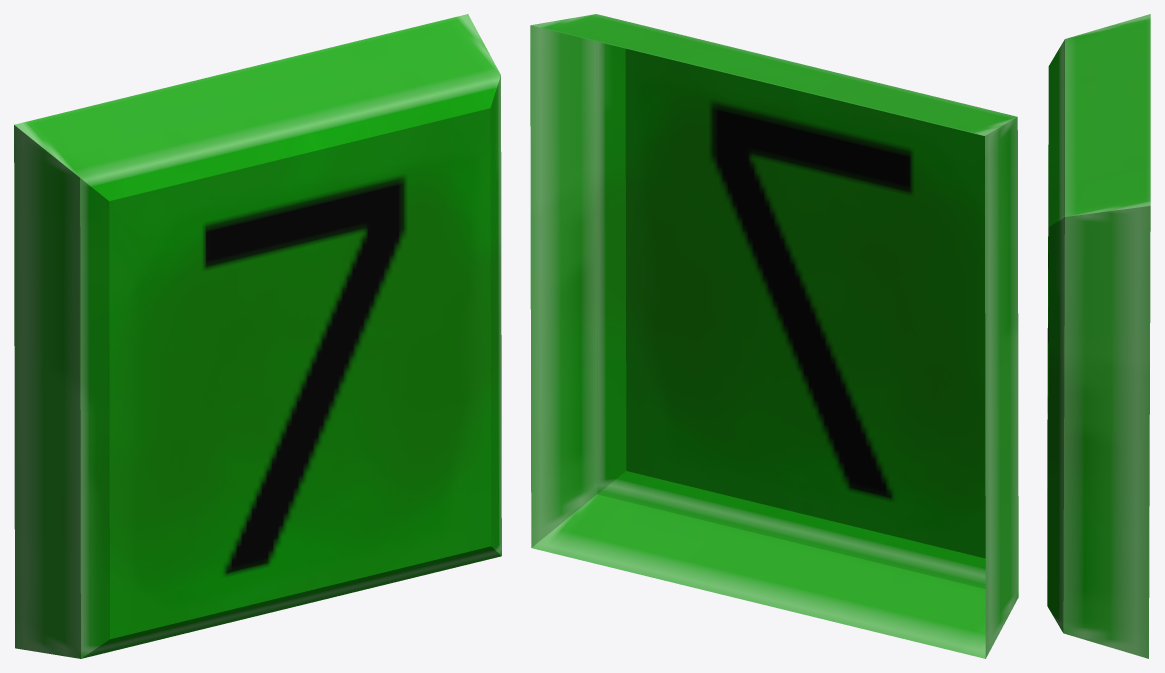
File: PadNumber_7.FBX
The picture shows the model from 3 angles, left to right: view 1: azimuth 30°, elevation 25°; view 2: azimuth 150°, elevation 25°; view 3: azimuth 270°, elevation 25°; orthographic projection. The views are drawn at different scales.
Visible parts, largest first — view 1: Pad_Number_7; view 2: Pad_Number_7; view 3: Pad_Number_7.
Boxes of the visible parts, x1,y1,x2,y2 form: Pad_Number_7: [14, 14, 501, 658]; Pad_Number_7: [530, 14, 1018, 658]; Pad_Number_7: [1047, 14, 1150, 658].
Size of the model in its own units: 5.37 by 5.91 by 1.22.
Materials: 1 (1 with a texture image).
